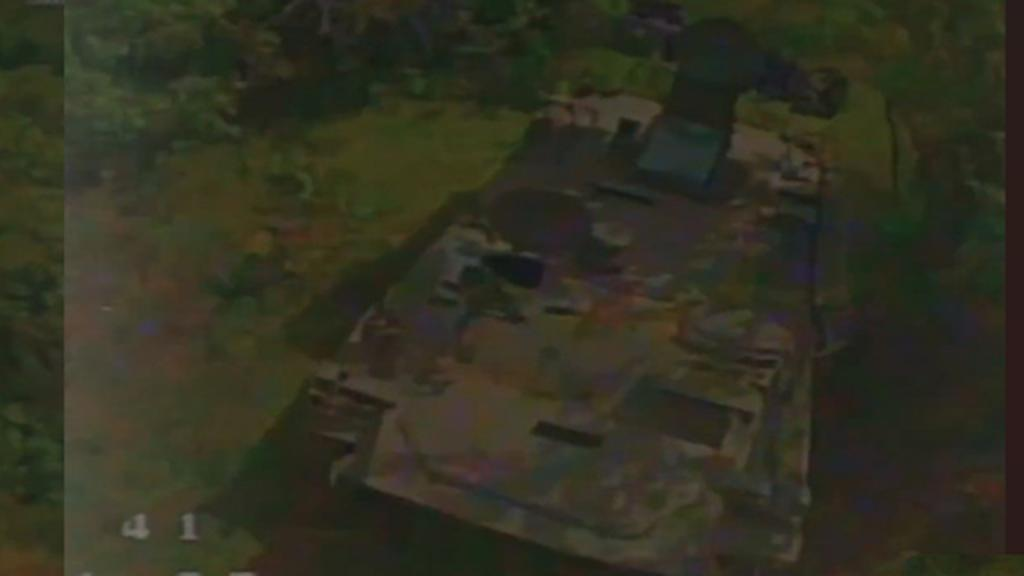MLRS: (276, 2, 892, 568)
